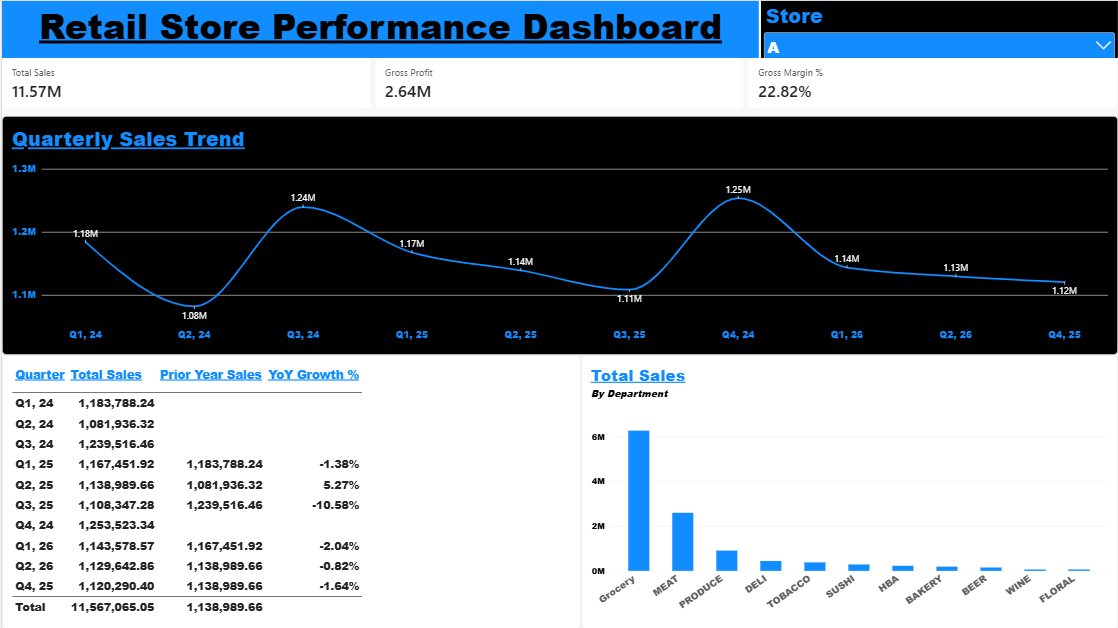

This screenshot's page, from the dashboard's own definition file:
{"tool":"powerbi","page":{"name":"Page 1","canvas":[1920,1080],"ordinal":0},"visuals":[{"type":"lineChart","title":"Quarterly Sales Trend","fields":{"Category":["Cleaned Data.PD"],"Series":["Cleaned Data.Store"],"Y":["Cleaned Data.Total Sales"]},"box":[0,197.8,1920,411.2],"z":1},{"type":"cardVisual","fields":{"Data":["Cleaned Data.Total Sales","Cleaned Data.Gross Profit","Cleaned Data.Gross Margin %"]},"box":[0,98.1,1920,87.7],"z":2},{"type":"tableEx","fields":{"Values":["Cleaned Data.PD","Cleaned Data.Total Sales","Cleaned Data.Prior Year Sales","Cleaned Data.YoY Sales Growth %"]},"box":[0,609,996.1,471.4],"z":3},{"type":"textbox","box":[0,0,1302.4,98.1],"z":4},{"type":"slicer","fields":{"Values":["Cleaned Data.Store"]},"box":[1305.8,0,614.2,98.1],"z":5},{"type":"clusteredColumnChart","title":"Total Sales","fields":{"Category":["Cleaned Data.Dept Name"],"Y":["Cleaned Data.Total Sales"]},"box":[996.1,609,923.9,471.4],"z":6}]}

Visuals, with their boxes in screenshot pixels (x1, y1, x2, y2), scaled from the page's 1920x1080 canvas onto the 1118x628 screenshot:
"Quarterly Sales Trend" lineChart: 0 115 1117 354
cardVisual - Cleaned Data.Total Sales x Cleaned Data.Gross Profit: 0 57 1117 108
tableEx - Cleaned Data.PD x Cleaned Data.Total Sales: 0 354 580 627
textbox: 0 0 758 57
slicer - Cleaned Data.Store: 760 0 1117 57
"Total Sales" clusteredColumnChart: 580 354 1117 627
